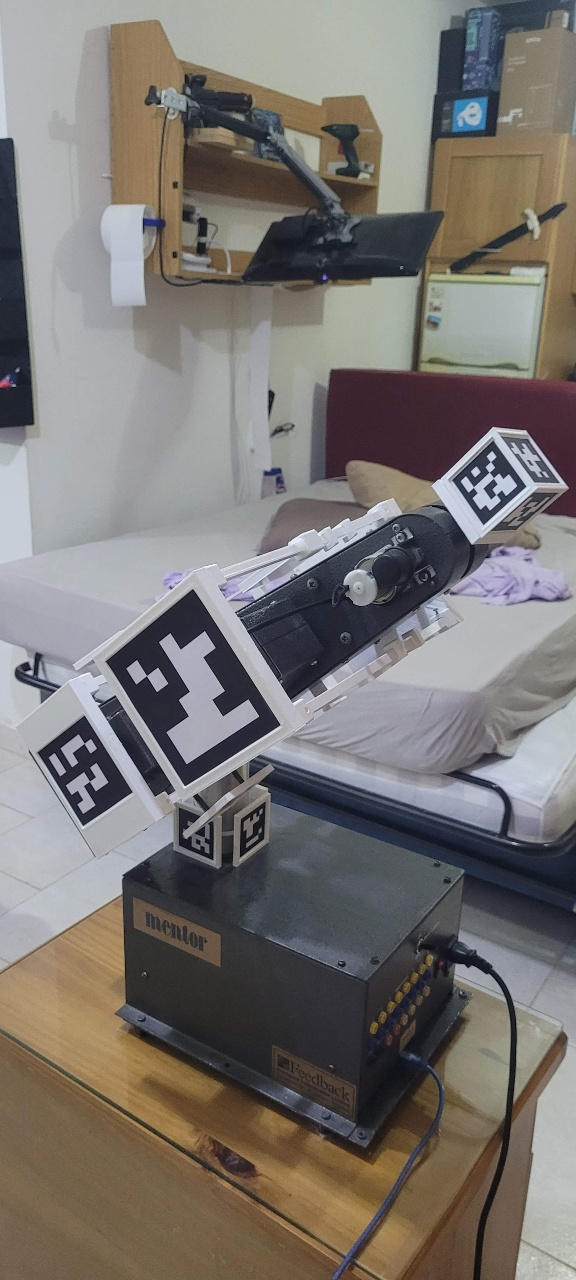Robot: (10, 427, 571, 875)
